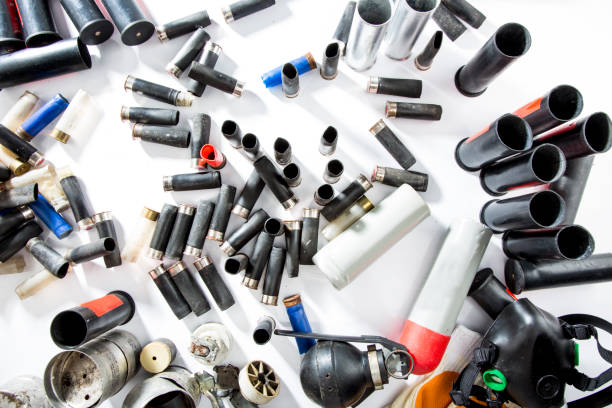e1: (275, 328, 413, 403)
